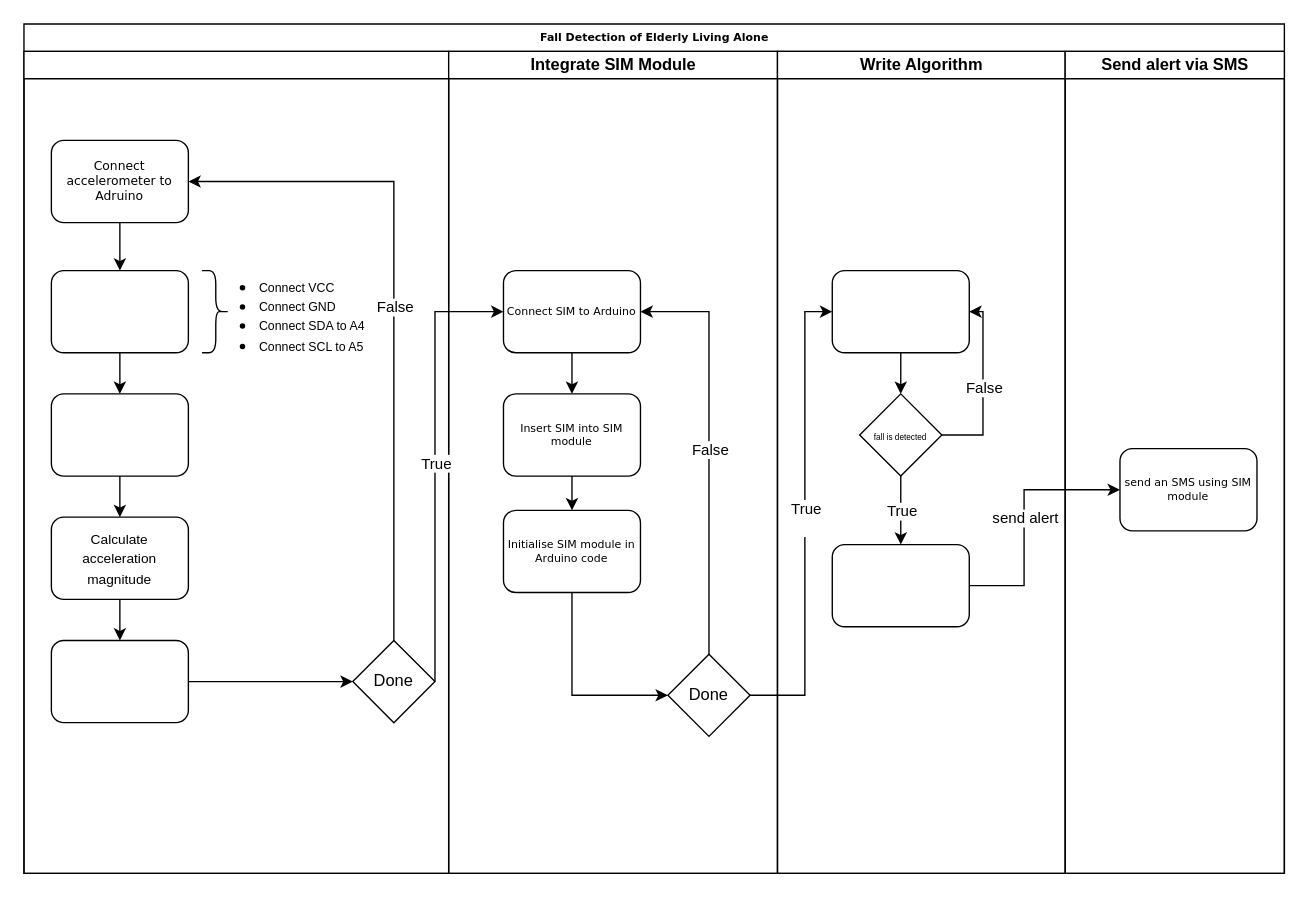
The diagram is 1308 pixels wide and 897 high, and some of its shapes have lost their labels. The shapes that lost their labels are listed below. From the top down, each one's box as (x1, y1, x2, y2) in pixels, then its label:
(50, 269, 188, 353): MPU6050
(831, 269, 969, 353): Monitor accelerometer values
(50, 393, 188, 476): Write program to read ccelerometer values
(23, 50, 449, 873): Preparation
(831, 543, 969, 627): Trigger alert
(50, 639, 188, 723): Set threshold that indicates a fall
